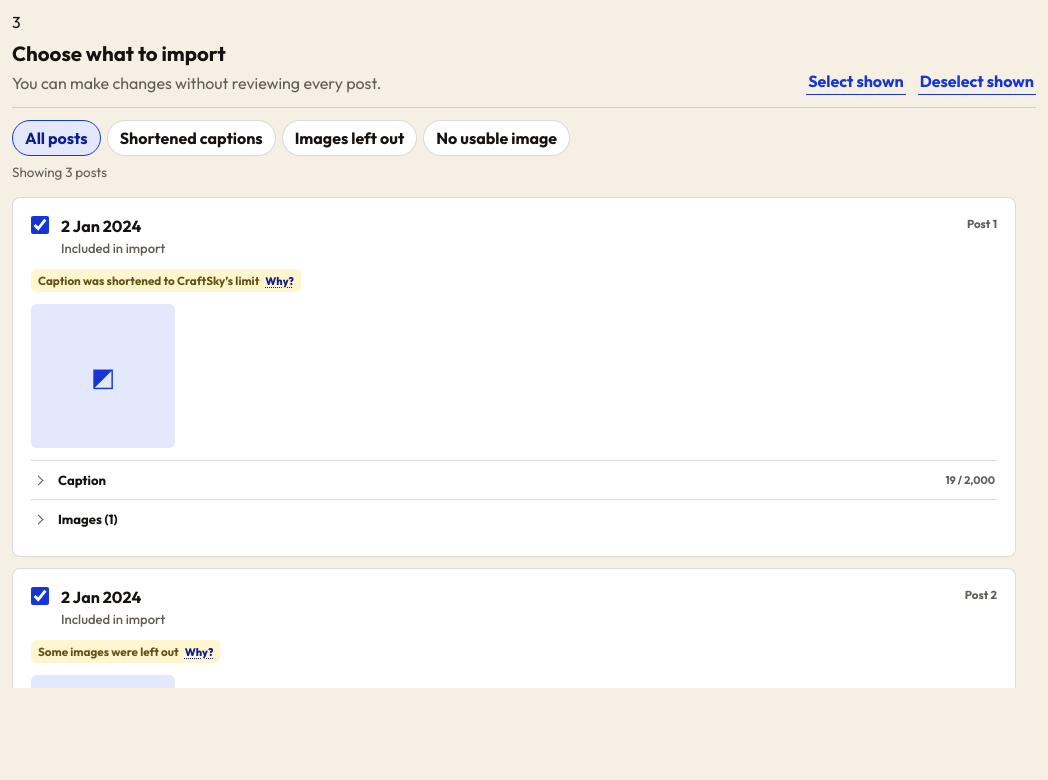
Scenario: virtualized review lists (AT-004, AC-006) › offers a separate filter and plain-language explanation for each warning type
expect the button "Shortened captions" is shown: met, box left=107, top=120, right=276, bottom=156
expect the button "No usable image" is shown: met, box left=423, top=120, right=570, bottom=156
Click the button "Images left out": (350, 138) left=282, top=120, right=417, bottom=156
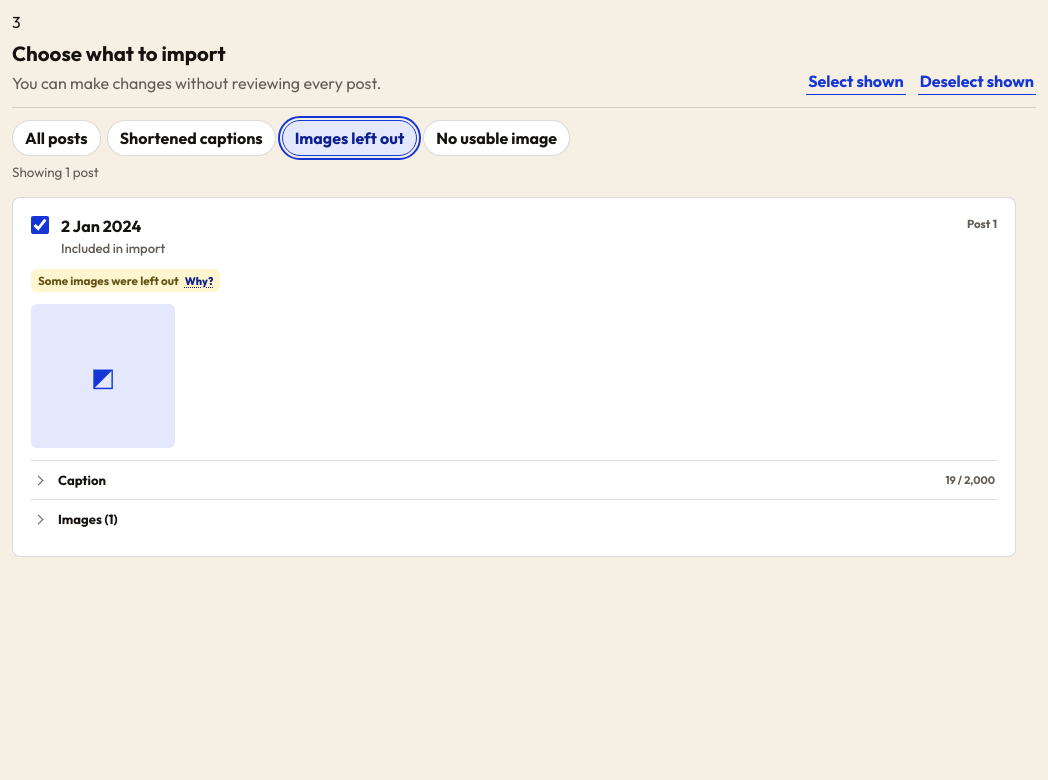
expect the text "Some images were left out" is shown: met, box left=38, top=273, right=179, bottom=288
expect the text "Showing 1 post" is shown: met, box left=12, top=164, right=99, bottom=180
